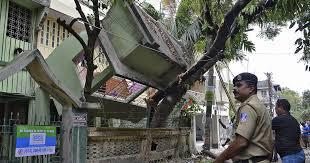destroyed: (16, 0, 206, 118)
